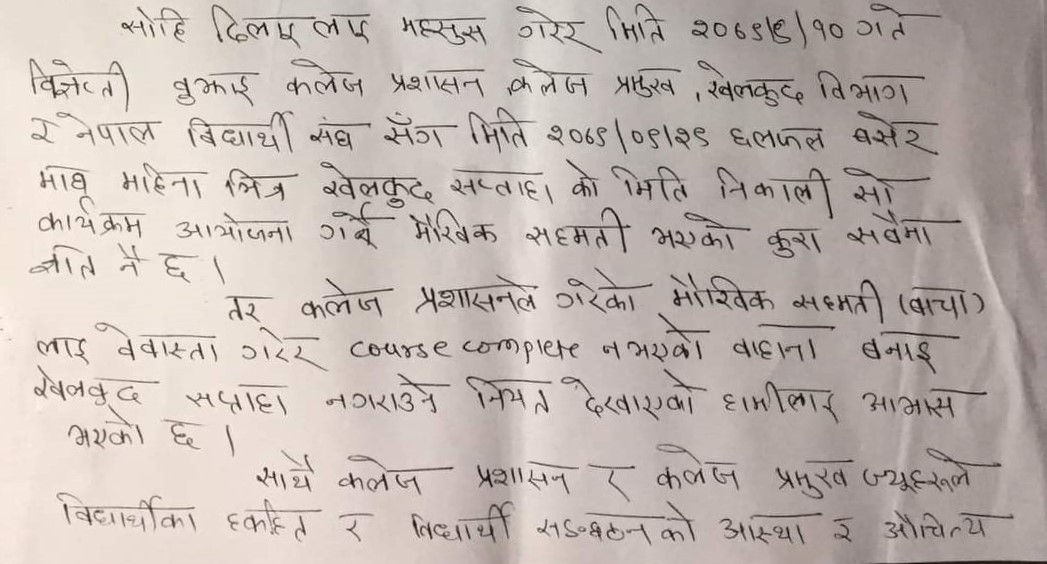text: (534, 498, 705, 549), (208, 1, 375, 52), (50, 485, 198, 537), (557, 371, 700, 422), (713, 157, 835, 216), (859, 443, 980, 498), (318, 366, 443, 419), (686, 9, 846, 50), (313, 155, 432, 208), (544, 116, 714, 153), (522, 203, 635, 257), (718, 377, 844, 425), (409, 275, 539, 321), (659, 267, 780, 316), (698, 58, 809, 111), (596, 316, 708, 368), (94, 319, 222, 362), (184, 107, 300, 154), (641, 207, 744, 259), (407, 499, 516, 548), (174, 204, 296, 247), (26, 50, 130, 100), (875, 503, 996, 545), (34, 195, 146, 240), (653, 439, 746, 493), (444, 163, 556, 207), (26, 367, 146, 408), (458, 369, 557, 418), (181, 375, 289, 419), (840, 208, 940, 255), (857, 382, 984, 419), (548, 268, 641, 317), (404, 207, 502, 253), (221, 498, 316, 544), (728, 319, 825, 364), (62, 405, 149, 455), (505, 2, 595, 50), (277, 54, 367, 102), (237, 332, 343, 372), (816, 66, 916, 108), (332, 452, 427, 496), (791, 276, 891, 317), (507, 54, 598, 99), (604, 162, 695, 207), (845, 108, 937, 152), (298, 277, 386, 323), (62, 108, 159, 149), (717, 511, 814, 552), (773, 453, 852, 503), (396, 12, 494, 52), (309, 205, 385, 255), (472, 459, 580, 494), (168, 67, 257, 109), (723, 121, 826, 157), (117, 159, 205, 200), (859, 330, 944, 372), (390, 67, 489, 102), (459, 105, 527, 154), (252, 446, 318, 496), (118, 2, 191, 45), (25, 239, 99, 281), (602, 2, 671, 45), (376, 108, 450, 148), (221, 162, 294, 202), (611, 61, 684, 100), (841, 163, 902, 209), (907, 282, 972, 325), (759, 223, 827, 264), (852, 2, 911, 45), (554, 157, 607, 202), (307, 113, 361, 153), (34, 327, 89, 364), (32, 159, 89, 194), (162, 413, 204, 454), (332, 509, 377, 544), (593, 463, 639, 496), (155, 249, 195, 286), (111, 236, 144, 280), (220, 294, 264, 326), (828, 516, 859, 549), (26, 111, 55, 145)
